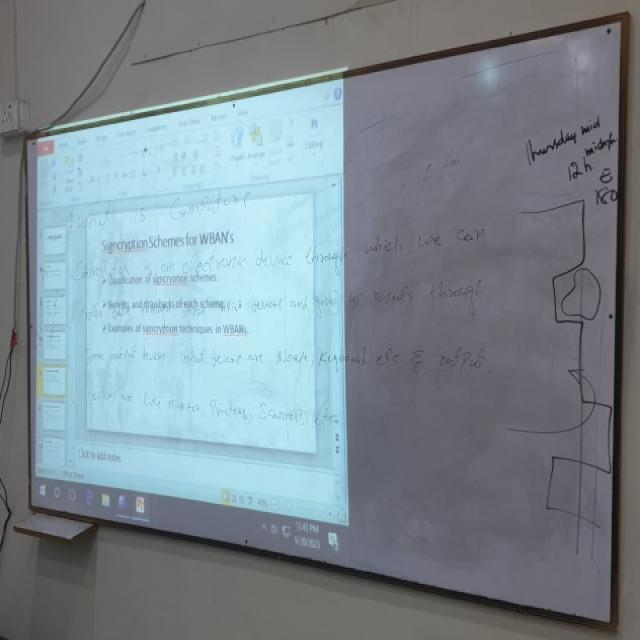Slide: (33, 80, 351, 563)
White-board: (23, 22, 624, 630)
